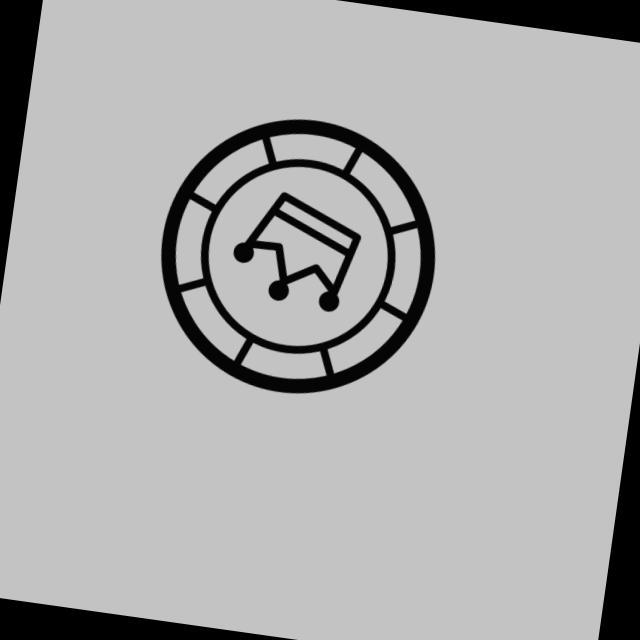coin: (138, 93, 464, 418)
